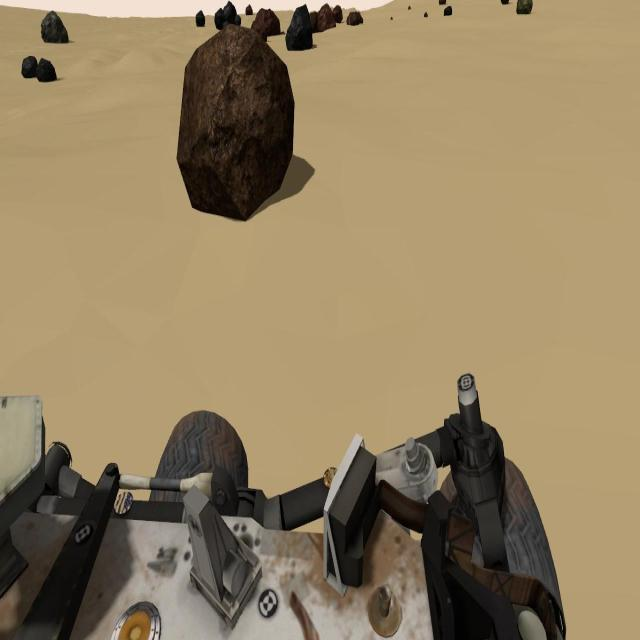rock: (177, 28, 294, 222), (286, 4, 313, 50), (41, 10, 69, 44), (256, 8, 280, 34), (38, 57, 57, 82), (319, 4, 336, 29), (22, 54, 38, 80), (224, 1, 240, 27), (250, 19, 267, 40), (213, 8, 224, 30), (516, 0, 533, 14), (347, 12, 362, 26), (333, 3, 342, 24), (310, 10, 318, 32), (195, 11, 205, 28), (246, 4, 253, 16), (443, 5, 452, 14), (499, 0, 510, 5), (439, 0, 447, 6), (423, 11, 428, 19), (408, 3, 412, 9), (390, 14, 393, 20)
